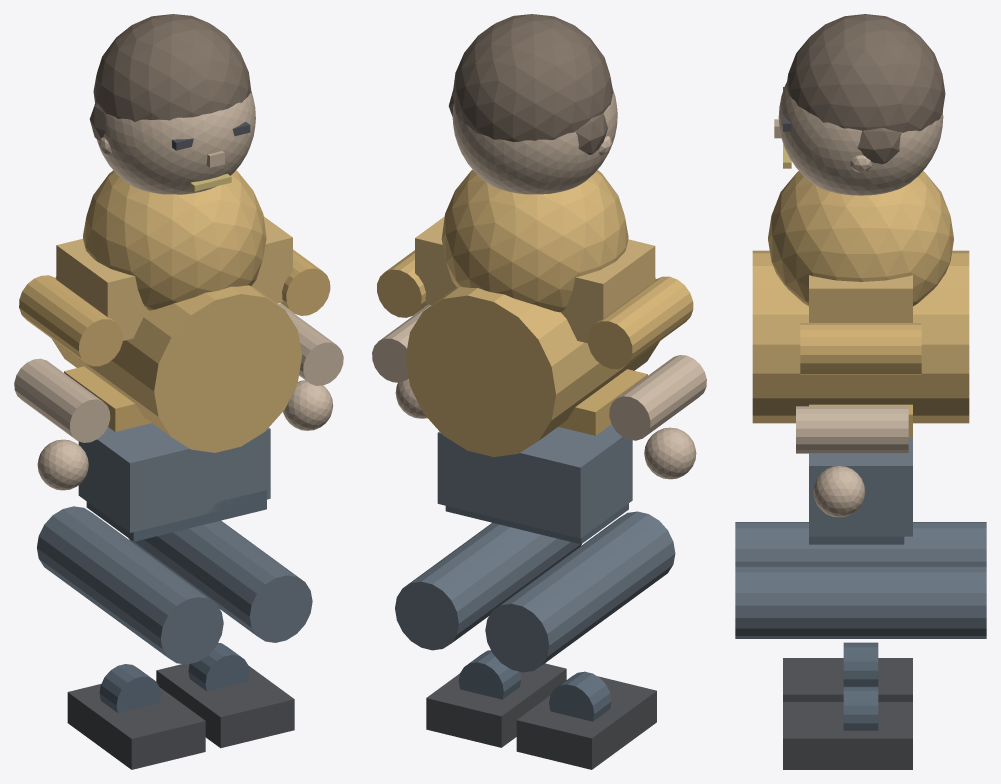
File: avatar_player.glb
3 renders of one model, left to right at view 1: azimuth 30°, elevation 25°; view 2: azimuth 150°, elevation 25°; view 3: azimuth 270°, elevation 25°, orthographic.
Parts seen in each view (by area): view 1: world; view 2: world; view 3: world.
Part boxes in pixels (box(x1,y1,x2,y2)): world: box(14, 14, 343, 769); world: box(372, 14, 706, 769); world: box(735, 14, 986, 769).
Bounding box in the file's own units: 0.78 × 1.8 × 0.58.
